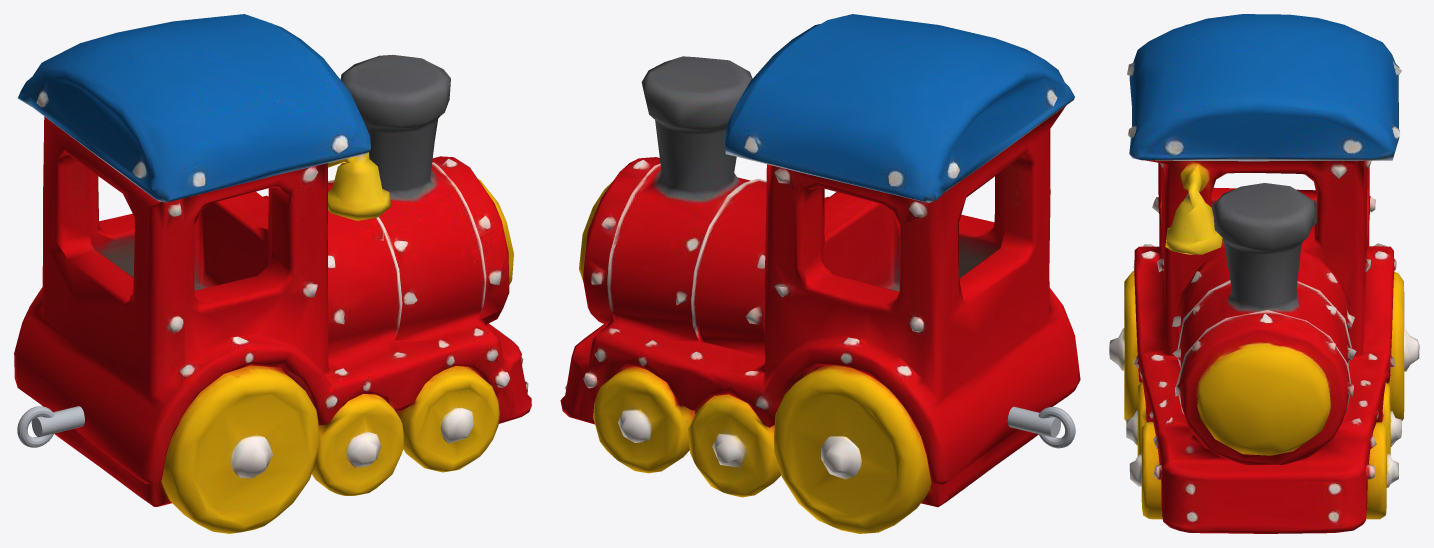
The model's file is train_engine.glb.
The picture shows the model from 3 angles, left to right: view 1: azimuth 30°, elevation 25°; view 2: azimuth 150°, elevation 25°; view 3: azimuth 270°, elevation 25°; orthographic projection. The views are drawn at different scales.
Visible parts, largest first — view 1: train_engine; view 2: train_engine; view 3: train_engine.
Part boxes in pixels (x1,y1,x2,y2): train_engine: [14, 14, 531, 533]; train_engine: [560, 14, 1080, 533]; train_engine: [1109, 14, 1419, 533].
Size of the model in its own units: 1.15 by 0.9848 by 0.7156.
Materials: 2 (1 with a texture image).
